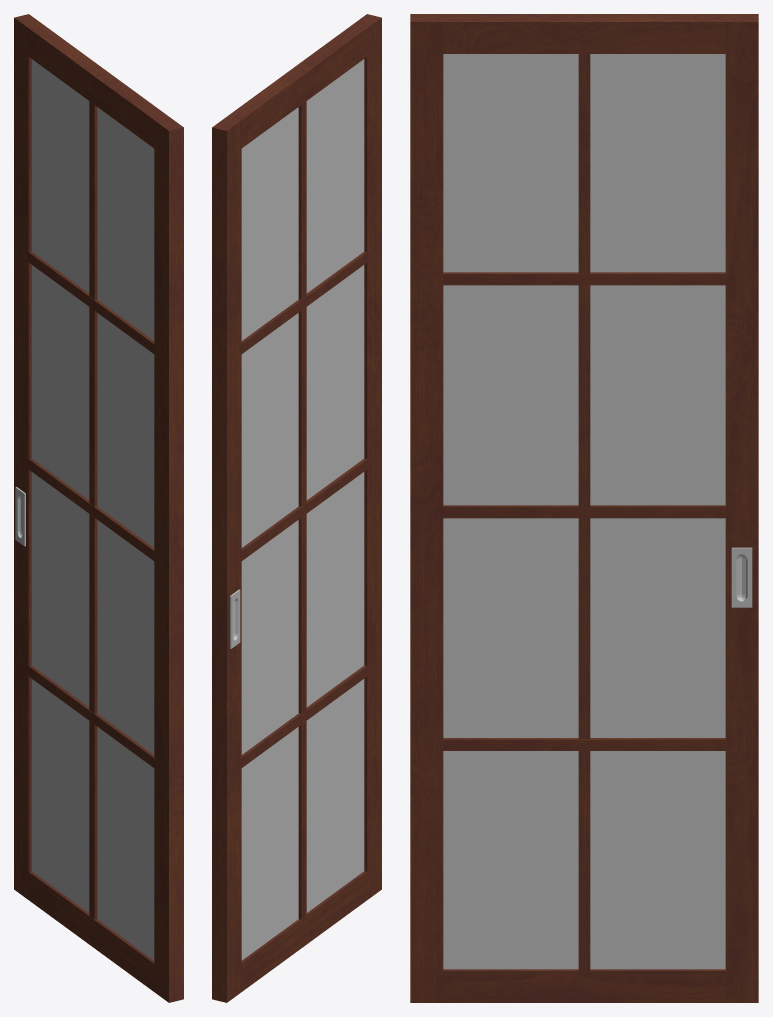
File: SM_InnerDoor01S.fbx
3 views of the same model, side by side, from view 1: azimuth 30°, elevation 25°; view 2: azimuth 150°, elevation 25°; view 3: azimuth 270°, elevation 25° (orthographic). The views are drawn at different scales.
Parts seen in each view (by area): view 1: SM_InnerDoor01S; view 2: SM_InnerDoor01S; view 3: SM_InnerDoor01S.
Part boxes in pixels (left/top/right/bottom): SM_InnerDoor01S: left=14, top=14, right=183, bottom=1002; SM_InnerDoor01S: left=212, top=14, right=381, bottom=1002; SM_InnerDoor01S: left=410, top=14, right=758, bottom=1002.
Size of the model in its own units: 2.78 by 42.07 by 131.
